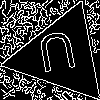U: (35, 30, 81, 82)
